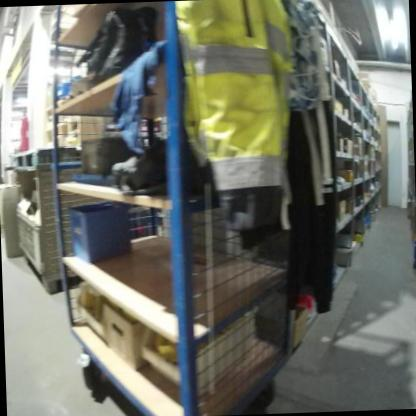small_load_carrier: (65, 199, 133, 263)
stillage: (13, 153, 122, 305)
